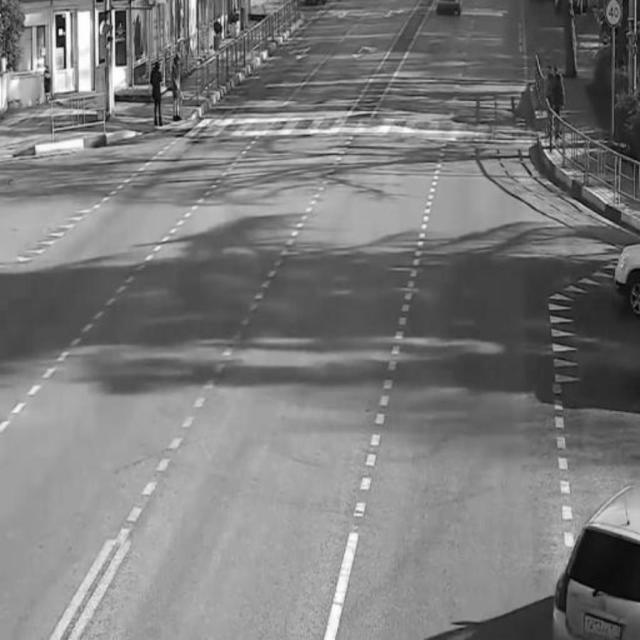person: (544, 59, 568, 137), (147, 60, 169, 128), (169, 45, 189, 118)
vehicle: (549, 484, 640, 638), (613, 237, 640, 313)
